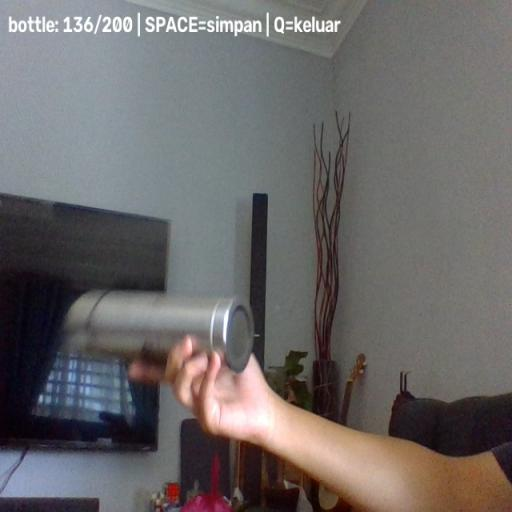Bottle: (65, 289, 255, 373)
